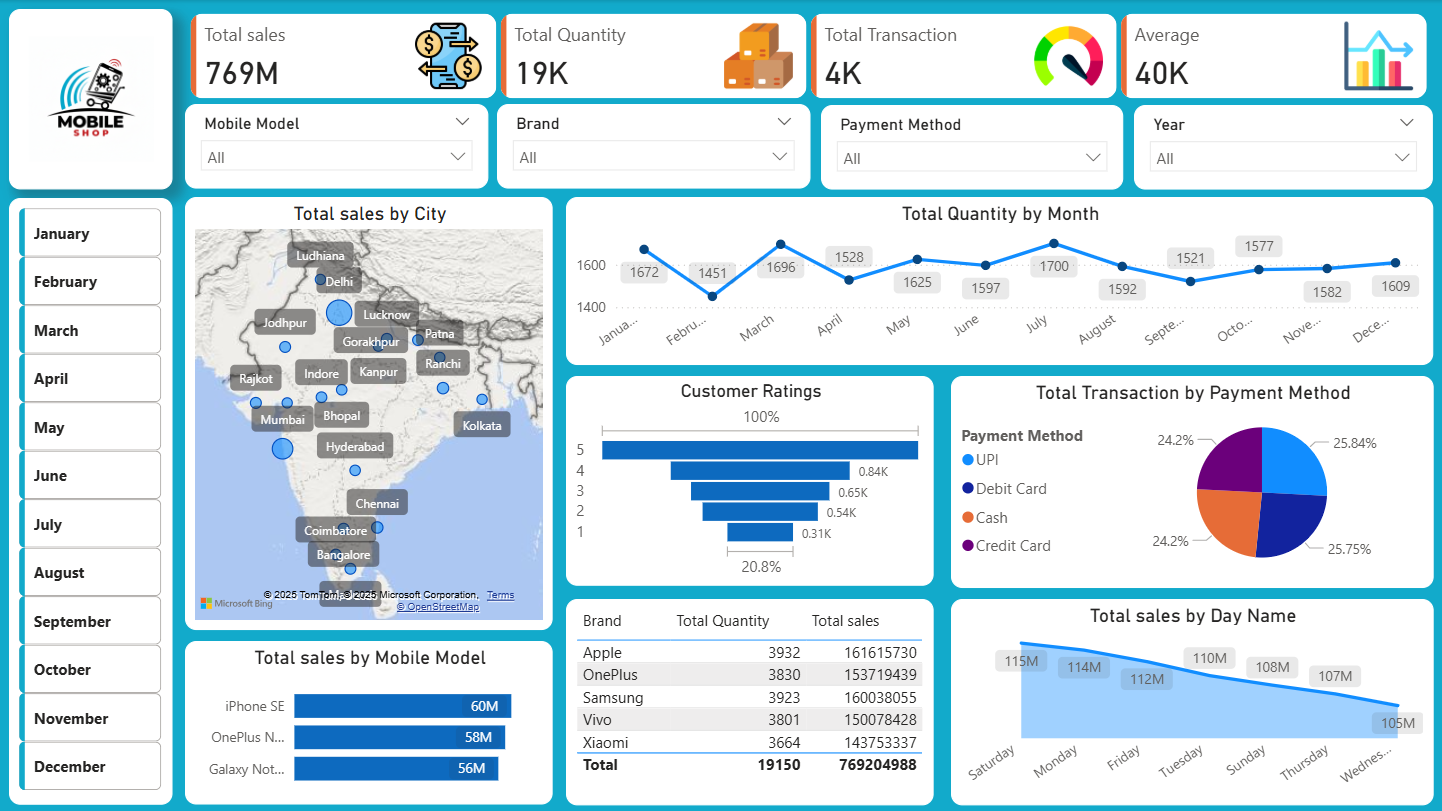

What the dashboard file says about the page in this screenshot:
{"tool":"powerbi","page":{"name":"Page 1","canvas":[1280,720],"ordinal":0},"visuals":[{"type":"shape","box":[9.1,8.2,144.5,160],"z":0},{"type":"image","box":[20,27.3,123.6,120.9],"z":1000},{"type":"advancedSlicerVisual","fields":{"Values":["Sales_data.Date.Variation.Date Hierarchy.Month"]},"box":[9.1,175.5,144.5,538.2],"z":2000},{"type":"cardVisual","fields":{"Data":["Sales_data.Total sales","Sales_data.Total Quantity","Sales_data.Total Transaction","Sales_data.Average"]},"box":[165,7.5,1106.2,85],"z":3000},{"type":"map","fields":{"Category":["Sales_data.City"],"Size":["Sales_data.Total sales"]},"box":[165,175,326.2,383.8],"z":4000},{"type":"lineChart","fields":{"Category":["Sales_data.Date.Variation.Date Hierarchy.Month","Sales_data.Date.Variation.Date Hierarchy.Day"],"Y":["Sales_data.Total Quantity"]},"box":[502.5,175,768.8,148.8],"z":5000},{"type":"clusteredBarChart","fields":{"Y":["Sales_data.Total sales"],"Category":["Sales_data.Mobile Model"]},"box":[165,568.8,326.2,145],"z":6000},{"type":"pieChart","fields":{"Category":["Sales_data.Payment Method"],"Y":["Sales_data.Total Transaction"]},"box":[843.8,333.8,427.5,187.5],"z":7000},{"type":"funnel","title":"Customer Ratings ","fields":{"Category":["Sales_data.Customer Ratings"],"Y":["CountNonNull(Sales_data.Customer Ratings)"]},"box":[502.5,333.8,326.2,186.2],"z":8000},{"type":"areaChart","fields":{"Category":["Sales_data.Day Name"],"Y":["Sales_data.Total sales"]},"box":[843.8,531.2,427.5,182.5],"z":9000},{"type":"tableEx","fields":{"Values":["Sales_data.Brand","Sales_data.Total Quantity","Sales_data.Total sales"]},"box":[502.5,531.2,326.2,182.5],"z":10000},{"type":"slicer","fields":{"Values":["Sales_data.Mobile Model"]},"box":[165,92.5,268.8,75],"z":11000},{"type":"slicer","fields":{"Values":["Sales_data.Brand"]},"box":[441.2,92.5,277.5,75],"z":12000},{"type":"slicer","fields":{"Values":["Sales_data.Payment Method"]},"box":[729.1,92.7,268.2,74.5],"z":13000},{"type":"slicer","fields":{"Values":["Sales_data.Date.Variation.Date Hierarchy.Year"]},"box":[1006.4,92.7,264.5,74.5],"z":14000}]}

Visuals, with their boxes in screenshot pixels (x1, y1, x2, y2), scaled from the page's 1280x720 canvas onto the 1442x811 screenshot:
shape: pyautogui.locateOnScreen(10, 9, 173, 189)
image: pyautogui.locateOnScreen(23, 31, 162, 167)
advancedSlicerVisual - Sales_data.Date.Variation.Date Hierarchy.Month: pyautogui.locateOnScreen(10, 198, 173, 804)
cardVisual - Sales_data.Total sales x Sales_data.Total Quantity: pyautogui.locateOnScreen(186, 8, 1432, 104)
map - Sales_data.City x Sales_data.Total sales: pyautogui.locateOnScreen(186, 197, 553, 629)
lineChart - Sales_data.Date.Variation.Date Hierarchy.Month x Sales_data.Date.Variation.Date Hierarchy.Day: pyautogui.locateOnScreen(566, 197, 1432, 365)
clusteredBarChart - Sales_data.Total sales x Sales_data.Mobile Model: pyautogui.locateOnScreen(186, 641, 553, 804)
pieChart - Sales_data.Payment Method x Sales_data.Total Transaction: pyautogui.locateOnScreen(951, 376, 1432, 587)
"Customer Ratings " funnel: pyautogui.locateOnScreen(566, 376, 934, 586)
areaChart - Sales_data.Day Name x Sales_data.Total sales: pyautogui.locateOnScreen(951, 598, 1432, 804)
tableEx - Sales_data.Brand x Sales_data.Total Quantity: pyautogui.locateOnScreen(566, 598, 934, 804)
slicer - Sales_data.Mobile Model: pyautogui.locateOnScreen(186, 104, 489, 189)
slicer - Sales_data.Brand: pyautogui.locateOnScreen(497, 104, 810, 189)
slicer - Sales_data.Payment Method: pyautogui.locateOnScreen(821, 104, 1124, 188)
slicer - Sales_data.Date.Variation.Date Hierarchy.Year: pyautogui.locateOnScreen(1134, 104, 1432, 188)
